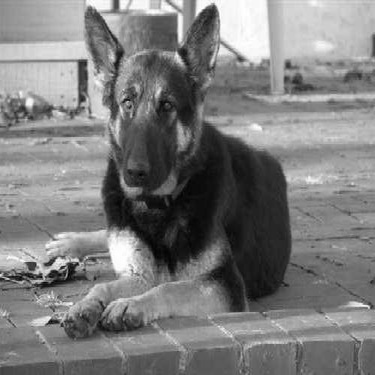dog: (38, 3, 296, 344)
